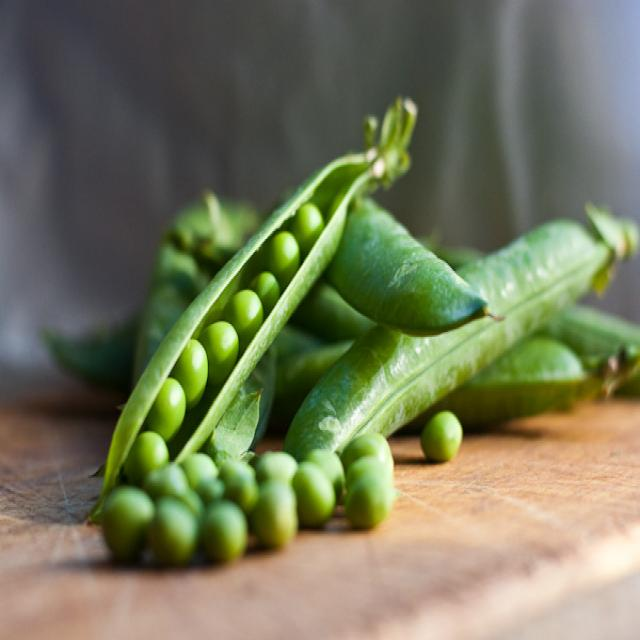Peas: (110, 441, 388, 566), (238, 223, 299, 320), (177, 314, 245, 400)
